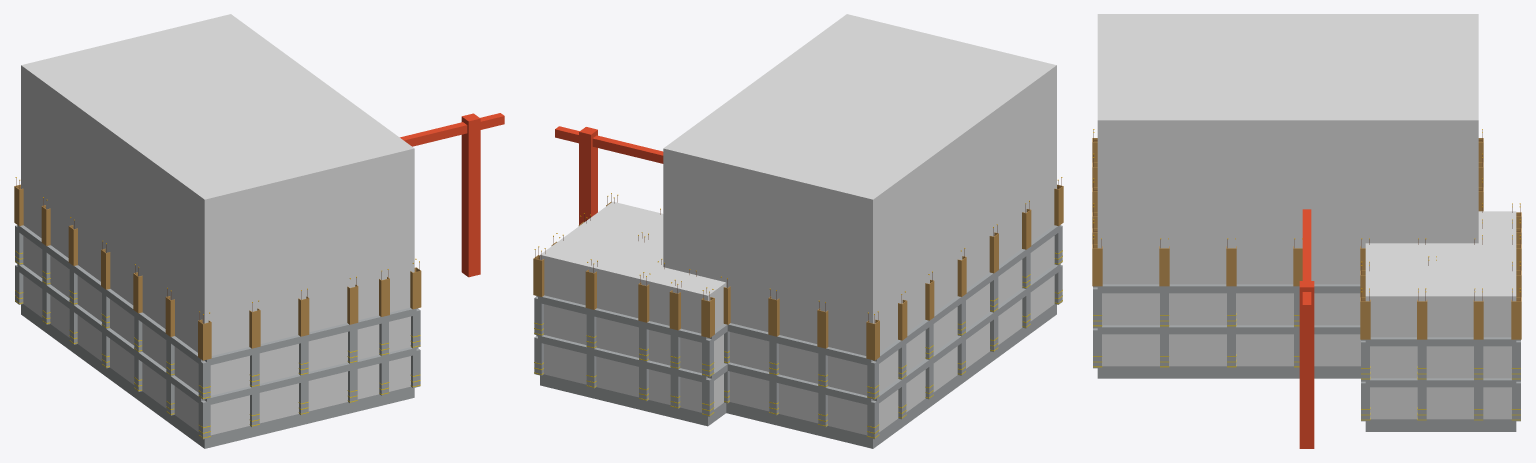
File: 35Complete.fbx
3 renders of one model, left to right at view 1: azimuth 30°, elevation 25°; view 2: azimuth 150°, elevation 25°; view 3: azimuth 270°, elevation 25°, orthographic. The views are drawn at different scales.
Visible parts, largest first — view 1: Tower block, HRG_Block_Building; view 2: Tower block, HRG_Block_Building, Lower wing; view 3: Tower block, HRG_Block_Building, Lower wing.
Part boxes in pixels (box(x1,y1,x2,y2)): Tower block: box(21, 14, 414, 435); HRG_Block_Building: box(14, 113, 504, 448); Tower block: box(663, 14, 1056, 435); HRG_Block_Building: box(533, 126, 1063, 448); Lower wing: box(540, 201, 726, 412); Tower block: box(1097, 14, 1478, 366); HRG_Block_Building: box(1092, 129, 1521, 448); Lower wing: box(1365, 211, 1516, 419).
Bounding box in the file's own units: 3841 × 2270 × 3414.
